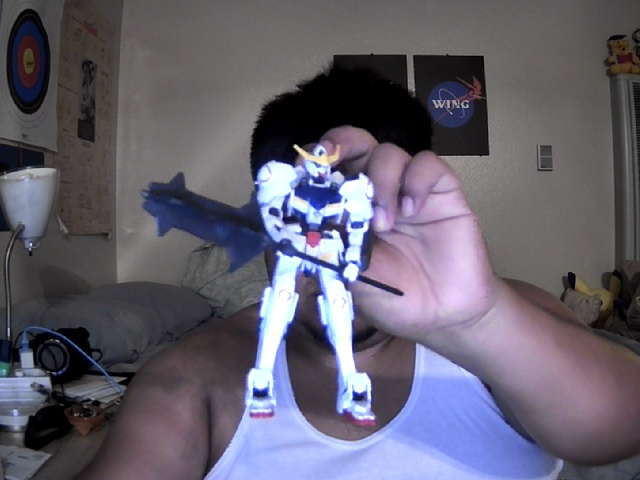Barbatos: (140, 144, 405, 429)
